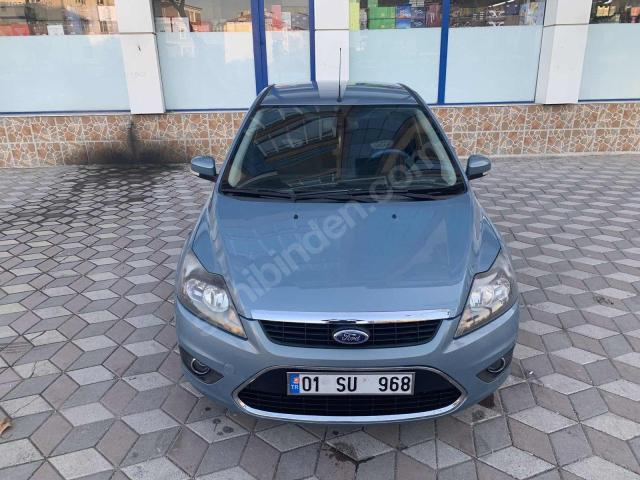plaka: (288, 372, 414, 395)
